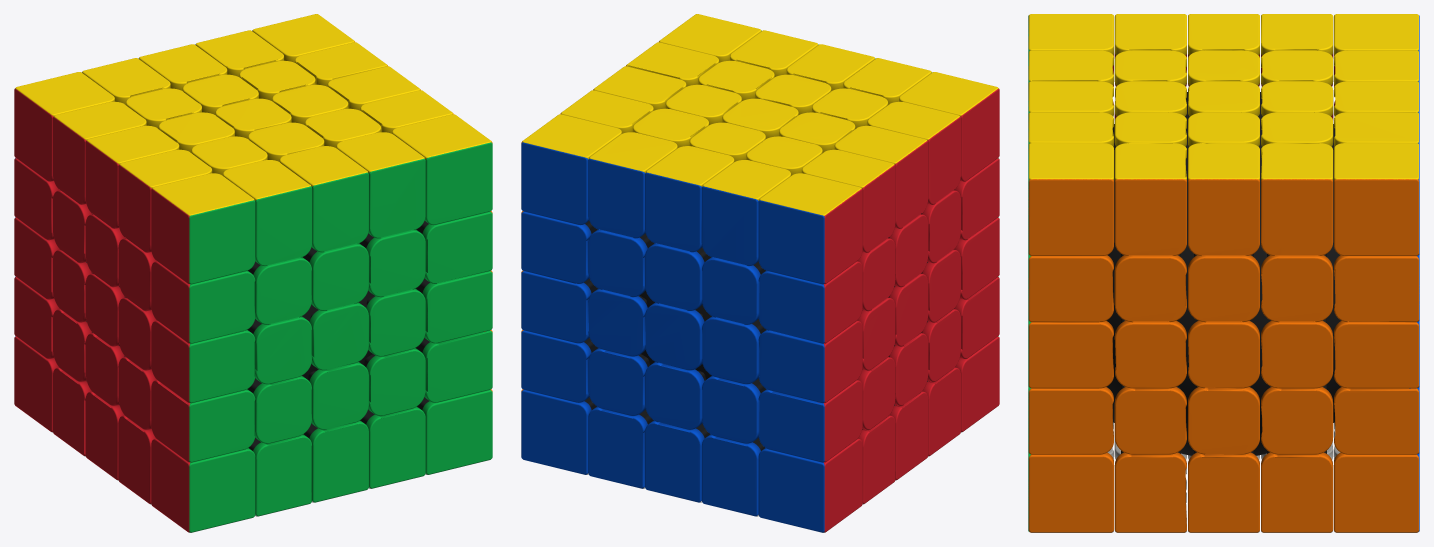
3 renders of one model, left to right at view 1: azimuth 30°, elevation 25°; view 2: azimuth 150°, elevation 25°; view 3: azimuth 270°, elevation 25°, orthographic. The views are drawn at different scales.
Parts seen in each view (by area): view 1: piece_-2,2,2, piece_-2,-2,2, piece_2,2,2, piece_-2,0,2, piece_-2,-1,2, piece_-2,1,2, piece_-1,2,2, piece_0,2,2, piece_1,2,2, piece_-2,2,-2, piece_2,-2,2, piece_-2,2,0 (+49 smaller); view 2: piece_-2,2,-2, piece_-2,-2,-2, piece_2,2,-2, piece_-2,0,-2, piece_-2,-1,-2, piece_-2,1,-2, piece_-1,2,-2, piece_1,2,-2, piece_0,2,-2, piece_-2,2,2, piece_2,-2,-2, piece_-2,2,-1 (+49 smaller); view 3: piece_2,2,-2, piece_2,2,2, piece_2,2,-1, piece_2,2,1, piece_2,2,0, piece_2,-2,2, piece_2,-2,-2, piece_2,-2,-1, piece_2,-2,1, piece_2,0,-2, piece_2,0,2, piece_2,-1,2 (+34 smaller).
Part boxes in pixels (<box>): piece_-2,2,2: <box>151,173,255,284</box>; piece_-2,-2,2: <box>151,438,255,532</box>; piece_2,2,2: <box>392,114,492,225</box>; piece_-2,0,2: <box>151,320,255,403</box>; piece_-2,-1,2: <box>151,380,255,462</box>; piece_-2,1,2: <box>151,261,255,343</box>; piece_-1,2,2: <box>223,160,312,266</box>; piece_0,2,2: <box>279,146,368,252</box>; piece_1,2,2: <box>336,132,425,238</box>; piece_-2,2,-2: <box>14,72,114,181</box>; piece_2,-2,2: <box>417,389,492,474</box>; piece_-2,2,0: <box>85,125,179,228</box>; piece_-2,2,-2: <box>758,173,862,284</box>; piece_-2,-2,-2: <box>758,438,862,532</box>; piece_2,2,-2: <box>521,114,621,225</box>; piece_-2,0,-2: <box>758,320,862,403</box>; piece_-2,-1,-2: <box>758,380,862,462</box>; piece_-2,1,-2: <box>758,261,862,343</box>; piece_-1,2,-2: <box>701,160,790,266</box>; piece_1,2,-2: <box>588,132,677,238</box>; piece_0,2,-2: <box>645,146,734,252</box>; piece_-2,2,2: <box>899,72,999,181</box>; piece_2,-2,-2: <box>521,389,596,474</box>; piece_-2,2,-1: <box>801,149,895,252</box>; piece_2,2,-2: <box>1334,143,1419,255</box>; piece_2,2,2: <box>1028,143,1113,255</box>; piece_2,2,-1: <box>1261,143,1333,256</box>; piece_2,2,1: <box>1114,143,1186,256</box>; piece_2,2,0: <box>1188,143,1259,255</box>; piece_2,-2,2: <box>1028,452,1113,532</box>; piece_2,-2,-2: <box>1334,452,1419,532</box>; piece_2,-2,-1: <box>1261,450,1333,532</box>; piece_2,-2,1: <box>1114,450,1186,532</box>; piece_2,0,-2: <box>1334,320,1419,388</box>; piece_2,0,2: <box>1028,320,1113,388</box>; piece_2,-1,2: <box>1028,387,1113,454</box>.
Bounding box in the file's own units: 2 × 2 × 2.
